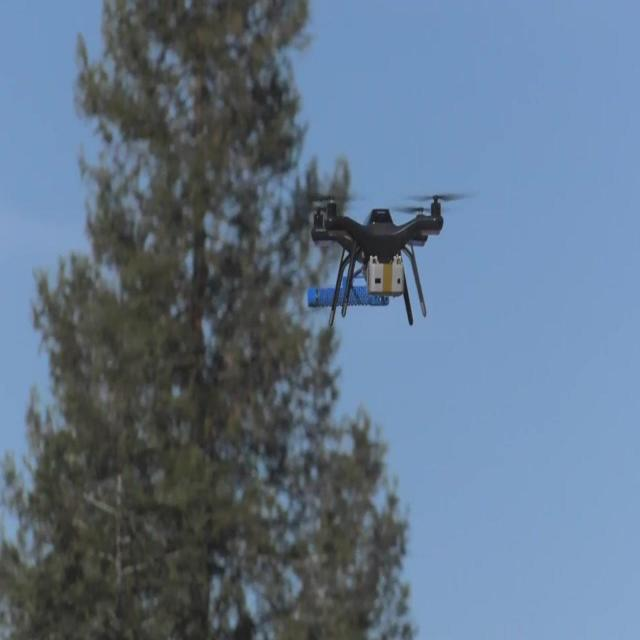UAV: (311, 195, 469, 326)
